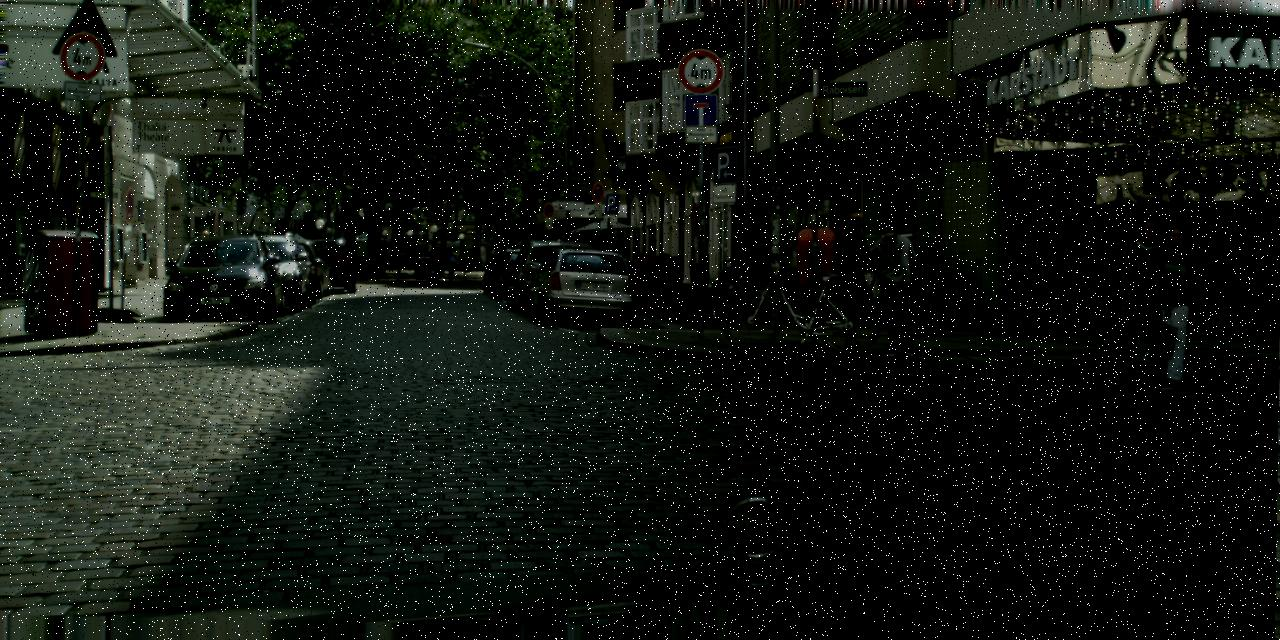ped: (1109, 215, 1179, 388), (1138, 224, 1202, 380), (867, 215, 924, 356), (826, 210, 880, 346), (444, 248, 457, 280), (618, 253, 630, 283), (412, 245, 430, 263), (432, 252, 442, 280), (363, 256, 369, 273), (413, 268, 413, 270)
